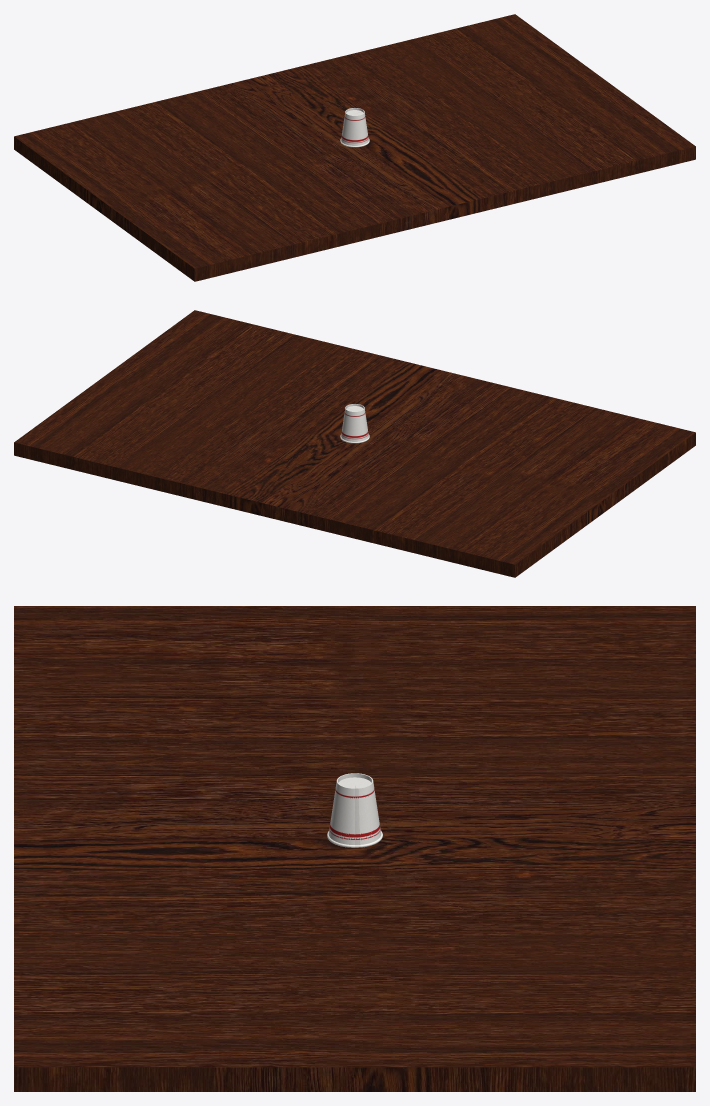
Rendered from cups.glb.
The picture shows the model from 3 angles, top to bottom: view 1: azimuth 30°, elevation 25°; view 2: azimuth 150°, elevation 25°; view 3: azimuth 270°, elevation 25°; orthographic projection. The views are drawn at different scales.
Visible parts, largest first — view 1: Table, Cup; view 2: Table, Cup; view 3: Table, Cup.
Part boxes in pixels (bbox=[...]): Table: bbox=[14, 14, 695, 281]; Cup: bbox=[340, 108, 369, 147]; Table: bbox=[14, 310, 695, 577]; Cup: bbox=[340, 404, 369, 443]; Table: bbox=[14, 606, 695, 1091]; Cup: bbox=[327, 773, 382, 847].
Bounding box in the file's own units: 1.6 × 0.13 × 1.
Materials: 3 (2 with a texture image).
